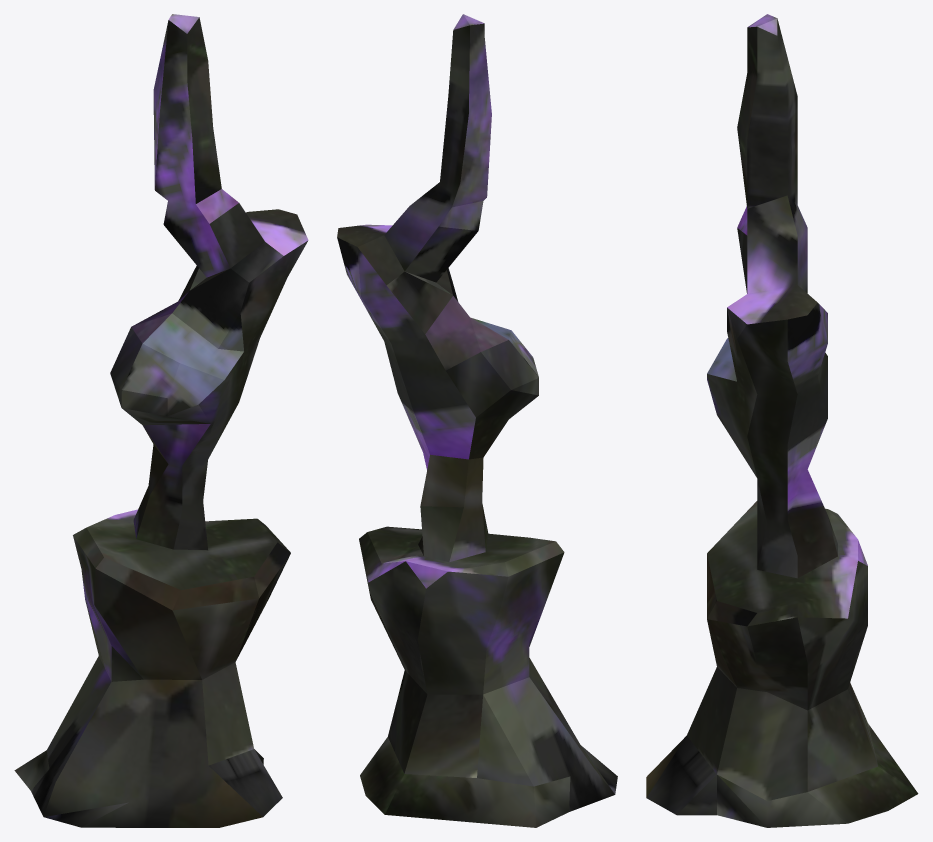
Rendered from BGEAsset2.fbx.
3 renders of one model, left to right at view 1: azimuth 30°, elevation 25°; view 2: azimuth 150°, elevation 25°; view 3: azimuth 270°, elevation 25°, orthographic. The views are drawn at different scales.
Visible parts, largest first — view 1: BGEAsset.003; view 2: BGEAsset.003; view 3: BGEAsset.003.
Boxes of the visible parts, bbox=[...] form: BGEAsset.003: bbox=[14, 14, 308, 827]; BGEAsset.003: bbox=[337, 14, 617, 827]; BGEAsset.003: bbox=[646, 14, 918, 827].
Bounding box in the file's own units: 6.05 × 16.41 × 5.27.
Materials: 1 (1 with a texture image).
